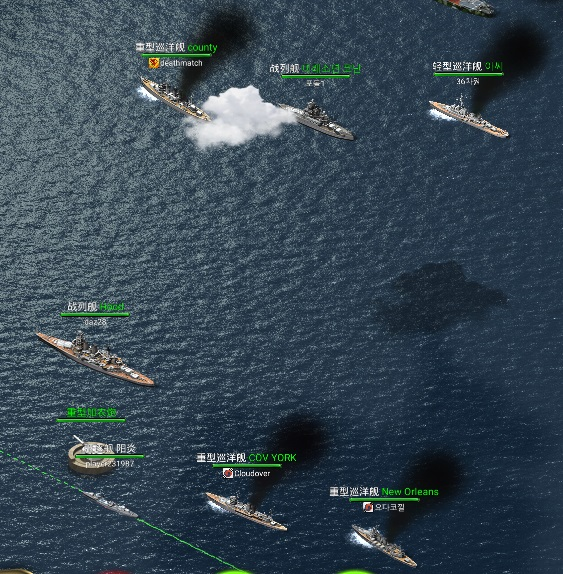ship: (36, 330, 156, 387), (205, 487, 288, 534), (428, 96, 513, 141), (350, 522, 422, 568), (279, 101, 355, 143), (141, 75, 209, 120)
